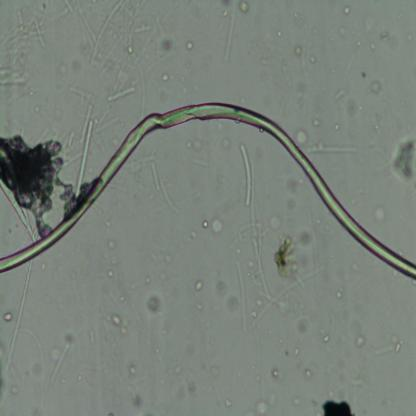Background material: (0, 137, 75, 220), (0, 3, 49, 84), (268, 228, 324, 296), (389, 132, 416, 185), (318, 394, 356, 416), (140, 288, 165, 318), (169, 376, 202, 398), (70, 82, 95, 108), (194, 214, 224, 235), (372, 334, 402, 354), (157, 34, 180, 60), (161, 180, 176, 214), (292, 309, 312, 334), (126, 380, 144, 407), (254, 394, 277, 415), (343, 95, 362, 117), (56, 0, 73, 23), (179, 74, 195, 98), (109, 314, 128, 334), (185, 136, 210, 151), (224, 295, 241, 314), (268, 210, 284, 229), (62, 328, 77, 347), (0, 372, 10, 400), (156, 265, 172, 282), (295, 80, 306, 104), (214, 278, 227, 298), (334, 85, 346, 106), (209, 359, 221, 380), (290, 11, 308, 25), (374, 205, 387, 224), (293, 130, 308, 146), (371, 79, 384, 96), (354, 332, 366, 350), (289, 392, 303, 407), (334, 282, 346, 299), (284, 196, 296, 213), (251, 293, 264, 308), (334, 23, 347, 38), (55, 59, 68, 73), (191, 277, 204, 291), (304, 362, 314, 380), (126, 358, 136, 376), (311, 114, 323, 128), (292, 45, 304, 59), (341, 2, 353, 16), (105, 237, 116, 251), (193, 298, 204, 312), (319, 328, 329, 343), (11, 384, 23, 396), (329, 119, 341, 131), (269, 365, 279, 379), (159, 69, 169, 83), (404, 29, 414, 43), (238, 2, 249, 14), (380, 27, 390, 40), (163, 250, 172, 264), (109, 256, 120, 267), (1, 312, 13, 322), (143, 272, 152, 285), (368, 36, 377, 49), (173, 364, 184, 374), (184, 41, 194, 52), (292, 347, 302, 358), (365, 141, 375, 152), (219, 0, 231, 9), (224, 135, 231, 149), (309, 54, 317, 66), (362, 71, 370, 82), (107, 269, 115, 280), (224, 396, 232, 407), (250, 310, 260, 318), (218, 119, 223, 134), (275, 30, 283, 38), (28, 89, 35, 97), (284, 348, 290, 357), (356, 39, 362, 48), (34, 105, 40, 113), (374, 122, 380, 130), (119, 294, 124, 302), (106, 413, 116, 416), (77, 376, 82, 380)
Glass filter fibre: (76, 1, 160, 79), (4, 262, 33, 368), (245, 207, 272, 301), (0, 187, 38, 240), (74, 117, 94, 200), (45, 342, 72, 386), (233, 257, 247, 336), (238, 142, 252, 209), (305, 142, 359, 156), (224, 8, 237, 63), (106, 87, 136, 101), (150, 160, 161, 193)
Microfibre: (0, 102, 416, 283)
